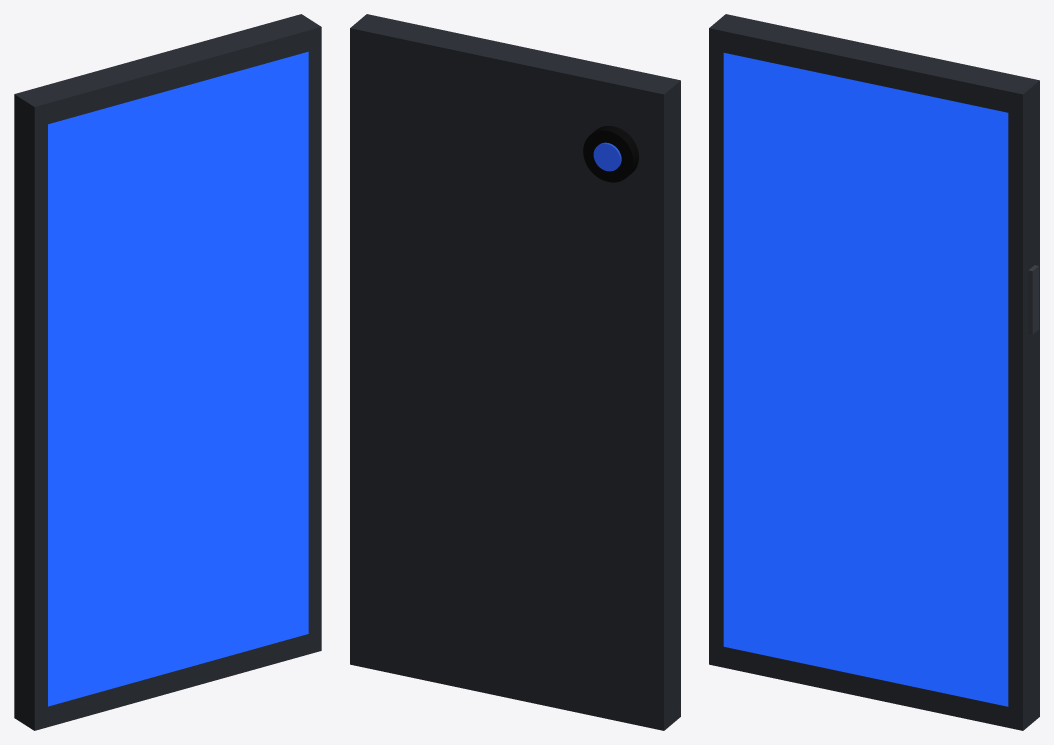
File: phone.glb
3 views of the same model, side by side, from view 1: azimuth 30°, elevation 25°; view 2: azimuth 150°, elevation 25°; view 3: azimuth 330°, elevation 25° (orthographic). The views are drawn at different scales.
Visible parts, largest first — view 1: Screen, Body; view 2: Body, RearCamera, Lens; view 3: Screen, Body, PowerButton.
Boxes of the visible parts, left/top/right/bottom form: Screen: left=48, top=51, right=308, bottom=706; Body: left=14, top=14, right=321, bottom=730; Body: left=350, top=14, right=680, bottom=730; RearCamera: left=583, top=125, right=638, bottom=182; Lens: left=593, top=142, right=621, bottom=171; Screen: left=723, top=53, right=1008, bottom=706; Body: left=709, top=14, right=1039, bottom=730; PowerButton: left=1028, top=265, right=1038, bottom=334.
Size of the model in its own units: 0.7619 by 1.5 by 0.1248.
